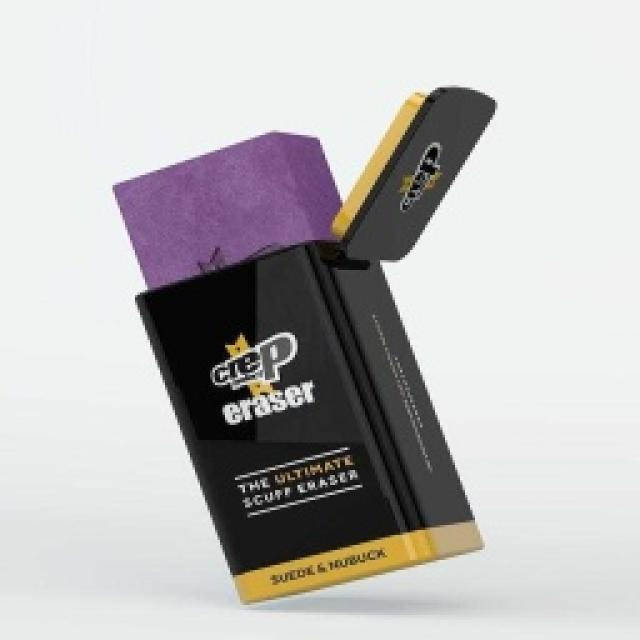Silgi: (109, 84, 499, 606)
